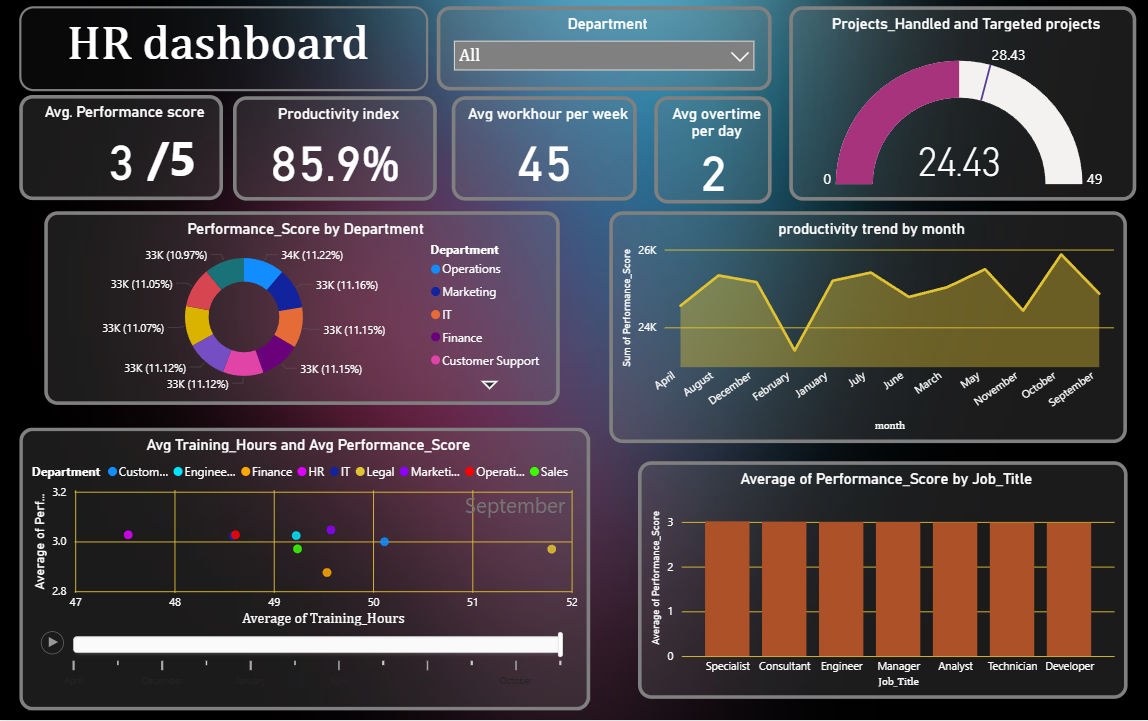

The dashboard page shown, as its layout file describes it:
{"tool":"powerbi","page":{"name":"Page 1","canvas":[1280,800],"ordinal":0},"visuals":[{"type":"card","title":"Avg. Performance score ","fields":{"Values":["Avg(_Employee_Performance_and_Productivity_Data.Performance_Score)"]},"box":[23.6,105.6,226.4,116.7],"z":0},{"type":"card","title":"Productivity index","fields":{"Values":["measure table.productivity index"]},"box":[261.8,107.4,226.5,116.2],"z":1000},{"type":"gauge","title":" Projects_Handled and Targeted projects","fields":{"TargetValue":["Avg(_Employee_Performance_and_Productivity_Data.Targeted projects)"],"Y":["Avg(_Employee_Performance_and_Productivity_Data.Projects_Handled)"]},"box":[879.4,7.4,385.3,216.2],"z":2000},{"type":"card","title":"Avg workhour per week ","fields":{"Values":["Avg(_Employee_Performance_and_Productivity_Data.Work_Hours_Per_Week)"]},"box":[504.4,107.4,205.9,116.2],"z":3000},{"type":"textbox","box":[161,133,73,86.5],"z":4000},{"type":"areaChart","title":"productivity trend by month","fields":{"Category":["calender table.Year","calender table.month"],"Y":["Sum(_Employee_Performance_and_Productivity_Data.Performance_Score)"]},"box":[679.7,234.4,575,257.8],"z":5000},{"type":"scatterChart","title":"Avg Training_Hours and Avg Performance_Score ","fields":{"X":["Avg(_Employee_Performance_and_Productivity_Data.Training_Hours)"],"Y":["Avg(_Employee_Performance_and_Productivity_Data.Performance_Score)"],"Series":["_Employee_Performance_and_Productivity_Data.Department"],"Play":["calender table.month"]},"box":[23.4,475,634.4,314.1],"z":6000},{"type":"clusteredColumnChart","fields":{"Y":["Avg(_Employee_Performance_and_Productivity_Data.Performance_Score)"],"Category":["_Employee_Performance_and_Productivity_Data.Job_Title"]},"box":[710.9,512.5,543.8,264.1],"z":7000},{"type":"donutChart","title":" Performance_Score by Department","fields":{"Y":["Sum(_Employee_Performance_and_Productivity_Data.Performance_Score)"],"Category":["_Employee_Performance_and_Productivity_Data.Department"]},"box":[51.4,235.1,573,214.9],"z":8000},{"type":"slicer","title":"Department","fields":{"Values":["_Employee_Performance_and_Productivity_Data.Department"]},"box":[487.5,6.2,371.9,93.8],"z":9000},{"type":"textbox","box":[23.5,7.4,454.4,94.1],"z":10000},{"type":"card","title":"Avg overtime per day ","fields":{"Values":["Avg(_Employee_Performance_and_Productivity_Data.Overime hours per day)"]},"box":[729.2,106.9,130.6,119.4],"z":11000}]}

Visuals, with their boxes in screenshot pixels (x1, y1, x2, y2), scaled from the page's 1280x800 canvas onto the 1148x721 screenshot:
"Avg. Performance score " card: crop(21, 95, 224, 200)
"Productivity index" card: crop(235, 97, 438, 202)
" Projects_Handled and Targeted projects" gauge: crop(789, 7, 1134, 202)
"Avg workhour per week " card: crop(452, 97, 637, 202)
textbox: crop(144, 120, 210, 198)
"productivity trend by month" areaChart: crop(610, 211, 1125, 444)
"Avg Training_Hours and Avg Performance_Score " scatterChart: crop(21, 428, 590, 711)
clusteredColumnChart - Avg(_Employee_Performance_and_Productivity_Data.Performance_Score) x _Employee_Performance_and_Productivity_Data.Job_Title: crop(638, 462, 1125, 700)
" Performance_Score by Department" donutChart: crop(46, 212, 560, 406)
"Department" slicer: crop(437, 6, 771, 90)
textbox: crop(21, 7, 429, 91)
"Avg overtime per day " card: crop(654, 96, 771, 204)
